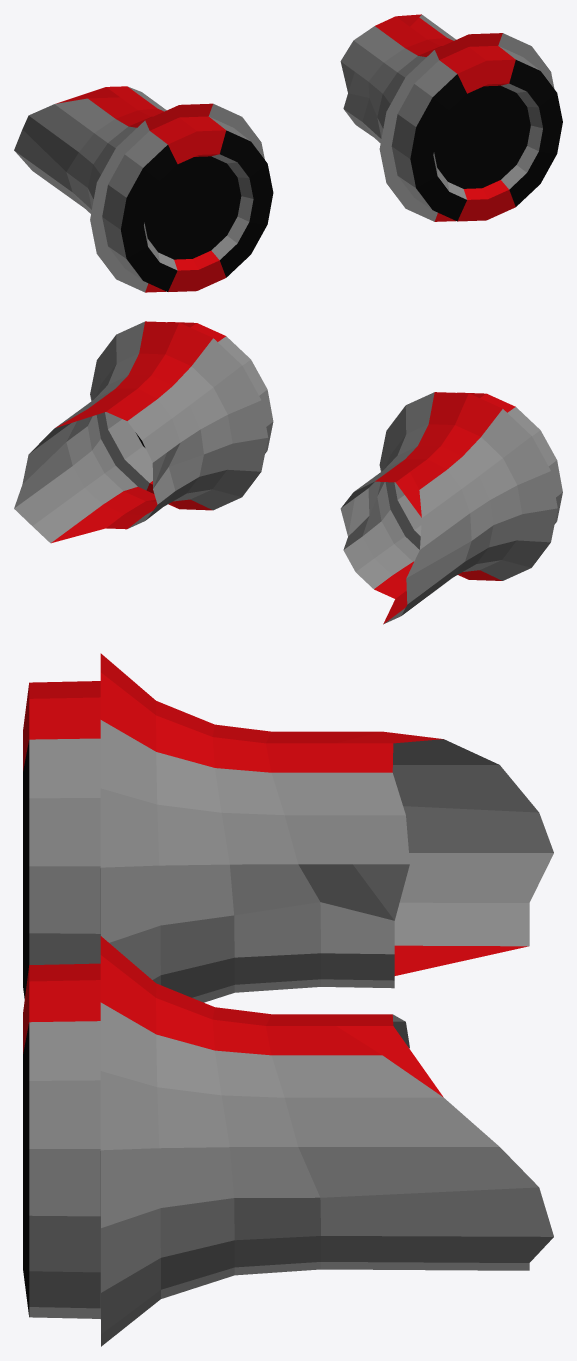
File: Engine2.fbx
3 renders of one model, top to bottom at view 1: azimuth 30°, elevation 25°; view 2: azimuth 150°, elevation 25°; view 3: azimuth 270°, elevation 25°, orthographic. The views are drawn at different scales.
Visible parts, largest first — view 1: Engine2; view 2: Engine2; view 3: Engine2.
Boxes of the visible parts, box(x1,y1,x2,y2) form: Engine2: box(14, 14, 562, 292); Engine2: box(14, 321, 562, 624); Engine2: box(23, 653, 553, 1346).
Size of the model in its own units: 1.62 by 0.6155 by 0.7946.
